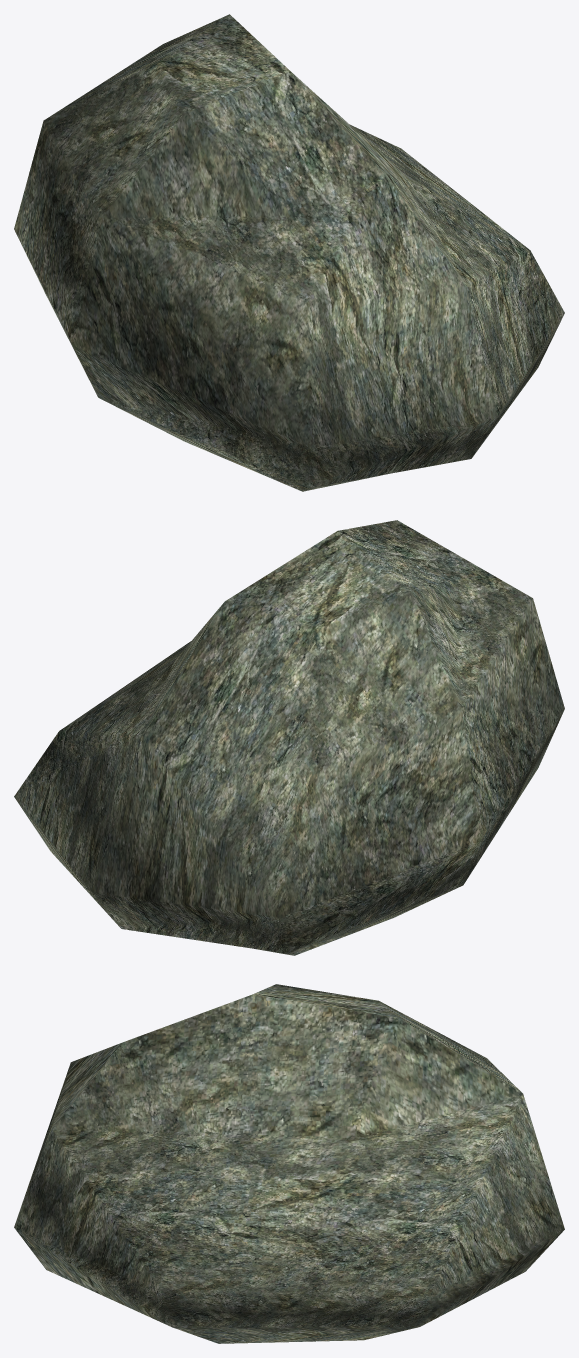
The model's file is mtns_rock_grey_a1_l0.fbx.
3 renders of one model, top to bottom at view 1: azimuth 30°, elevation 25°; view 2: azimuth 150°, elevation 25°; view 3: azimuth 270°, elevation 25°, orthographic. The views are drawn at different scales.
Parts seen in each view (by area): view 1: mesh_node; view 2: mesh_node; view 3: mesh_node.
Boxes of the visible parts, x1,y1,x2,y2 form: mesh_node: (14,14,564,491); mesh_node: (14,520,564,955); mesh_node: (14,984,564,1343).
Size of the model in its own units: 1.37 by 1.17 by 1.93.
Materials: 1 (1 with a texture image).
